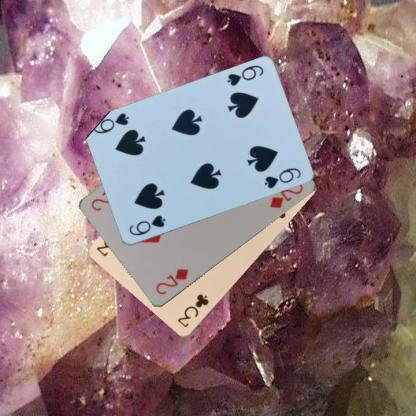2d: (154, 266, 190, 296)
3c: (175, 292, 210, 329)
6s: (224, 62, 265, 88), (126, 212, 166, 237)
